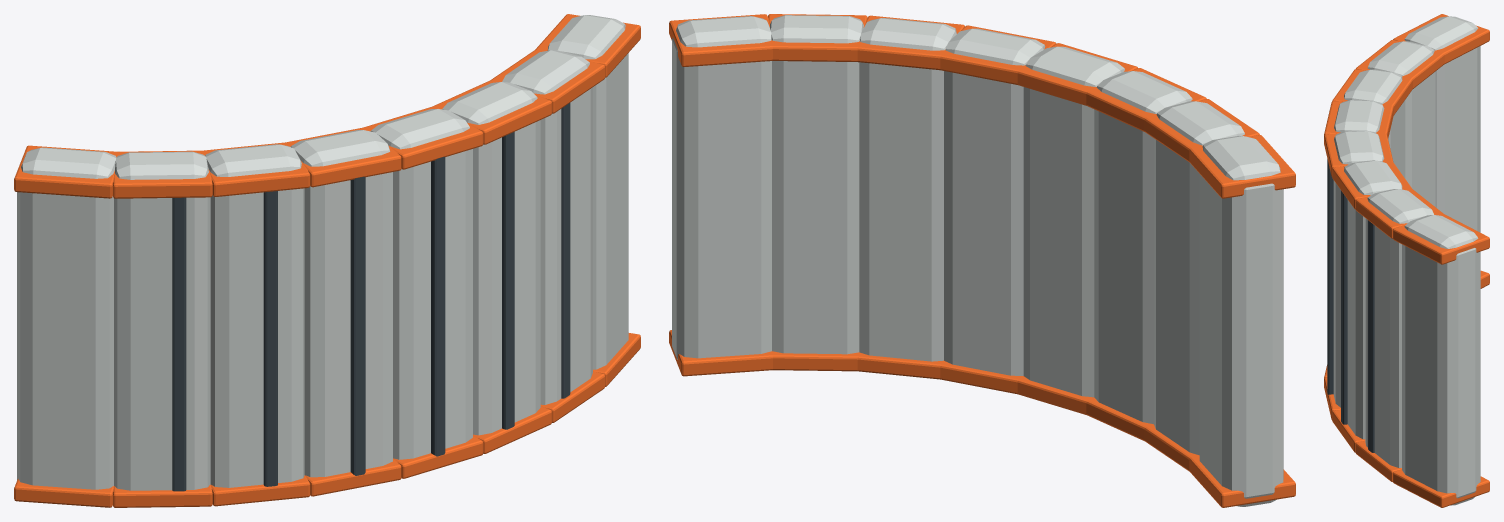
File: LPK_Hull_Exterior_Curve90.fbx
3 views of the same model, side by side, from view 1: azimuth 30°, elevation 25°; view 2: azimuth 150°, elevation 25°; view 3: azimuth 270°, elevation 25° (orthographic). The views are drawn at different scales.
Visible parts, largest first — view 1: HullSegment.004, HullSegment.005, HullSegment.006, HullSegment.007, HullSegment.008, HullSegment.009, HullSegment.010, HullSegment.011, OuterRib.007, OuterRib.008, OuterRib.006, OuterRib.005 (+18 smaller); view 2: HullSegment.011, HullSegment.010, HullSegment.004, HullSegment.009, HullSegment.008, HullSegment.007, HullSegment.006, HullSegment.005, HullRim.023, HullRim.016, HullRim.022, HullRim.021 (+12 smaller); view 3: HullSegment.011, HullSegment.004, HullSegment.010, HullSegment.009, HullSegment.005, HullSegment.008, HullSegment.006, OuterRib.009, OuterRib.010, OuterRib.008, HullRim.023, HullSegment.007 (+11 smaller).
Boxes of the visible parts, x1=… form: HullSegment.004: x1=17, y1=147, x2=116, y2=489; HullSegment.005: x1=114, y1=151, x2=210, y2=490; HullSegment.006: x1=205, y1=144, x2=304, y2=487; HullSegment.007: x1=291, y1=130, x2=392, y2=477; HullSegment.008: x1=370, y1=109, x2=472, y2=459; HullSegment.009: x1=442, y1=82, x2=540, y2=435; HullSegment.010: x1=502, y1=50, x2=592, y2=404; HullSegment.011: x1=547, y1=15, x2=628, y2=369; OuterRib.007: x1=350, y1=176, x2=365, y2=475; OuterRib.008: x1=431, y1=156, x2=445, y2=456; OuterRib.006: x1=263, y1=191, x2=277, y2=486; OuterRib.005: x1=172, y1=197, x2=186, y2=491; HullSegment.011: x1=672, y1=16, x2=771, y2=359; HullSegment.010: x1=770, y1=15, x2=863, y2=354; HullSegment.004: x1=1199, y1=136, x2=1283, y2=506; HullSegment.009: x1=859, y1=18, x2=956, y2=361; HullSegment.008: x1=944, y1=28, x2=1045, y2=375; HullSegment.007: x1=1023, y1=46, x2=1124, y2=397; HullSegment.006: x1=1094, y1=71, x2=1192, y2=424; HullSegment.005: x1=1154, y1=101, x2=1244, y2=455; HullRim.023: x1=669, y1=14, x2=777, y2=66; HullRim.016: x1=1189, y1=135, x2=1295, y2=198; HullRim.022: x1=768, y1=14, x2=867, y2=61; HullRim.021: x1=857, y1=15, x2=964, y2=70; HullSegment.011: x1=1402, y1=215, x2=1480, y2=505; HullSegment.004: x1=1404, y1=16, x2=1480, y2=232; HullSegment.010: x1=1365, y1=189, x2=1433, y2=467; HullSegment.009: x1=1344, y1=160, x2=1402, y2=439; HullSegment.005: x1=1367, y1=41, x2=1436, y2=207; HullSegment.008: x1=1333, y1=130, x2=1384, y2=407; HullSegment.006: x1=1344, y1=69, x2=1405, y2=178; OuterRib.009: x1=1341, y1=190, x2=1347, y2=424; OuterRib.010: x1=1368, y1=220, x2=1374, y2=452; OuterRib.008: x1=1327, y1=159, x2=1333, y2=394; HullRim.023: x1=1393, y1=213, x2=1489, y2=264; HullSegment.007: x1=1334, y1=100, x2=1384, y2=132.
Size of the model in its own units: 6.15 by 3.2 by 1.79.
